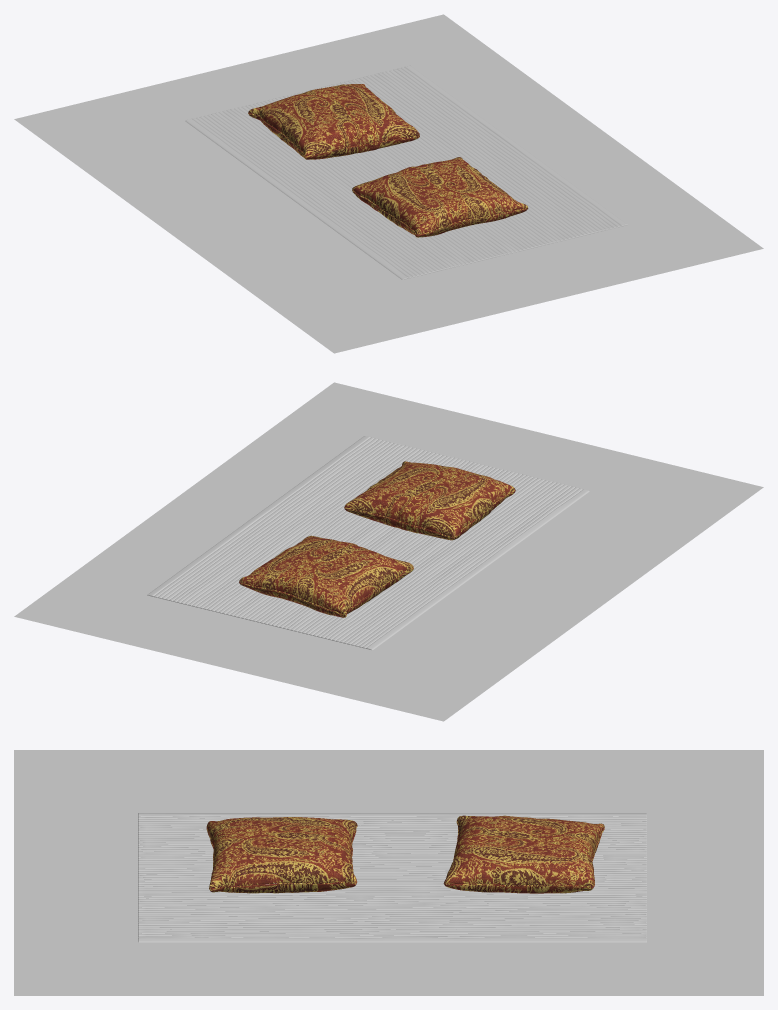
The model's file is dengzi.FBX.
The picture shows the model from 3 angles, top to bottom: view 1: azimuth 30°, elevation 25°; view 2: azimuth 150°, elevation 25°; view 3: azimuth 270°, elevation 25°; orthographic projection. The views are drawn at different scales.
Visible parts, largest first — view 1: polySurface1; view 2: polySurface1; view 3: polySurface1.
Part boxes in pixels (x1,y1,x2,y2): polySurface1: (14, 14, 763, 353); polySurface1: (14, 382, 763, 721); polySurface1: (14, 750, 763, 995).
Bounding box in the file's own units: 224 × 17.15 × 289.
